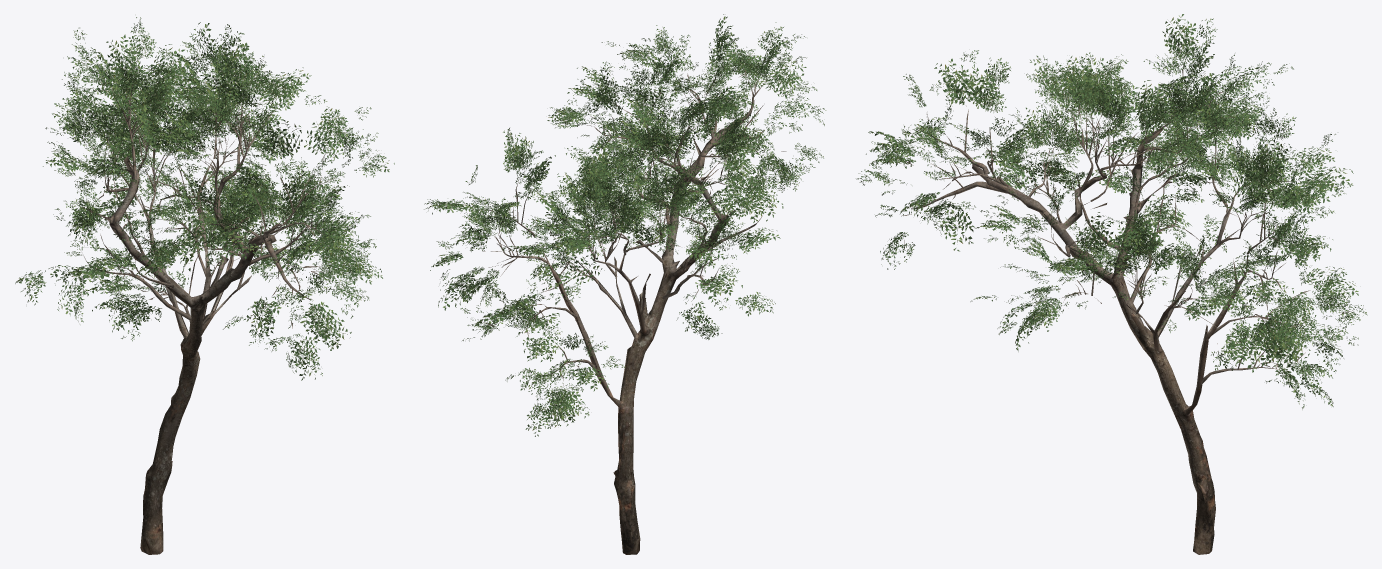
The model's file is tree_small_02-near.glb.
3 views of the same model, side by side, from view 1: azimuth 30°, elevation 25°; view 2: azimuth 150°, elevation 25°; view 3: azimuth 270°, elevation 25° (orthographic). The views are drawn at different scales.
Parts seen in each view (by area): view 1: tree_small_02_LOD0; view 2: tree_small_02_LOD0; view 3: tree_small_02_LOD0.
Part boxes in pixels (x1,y1,x2,y2): tree_small_02_LOD0: (15, 17, 394, 554); tree_small_02_LOD0: (424, 14, 826, 554); tree_small_02_LOD0: (856, 14, 1367, 554).
Size of the model in its own units: 0.6397 by 0.9999 by 0.9308.
3 materials, 3 textured.
